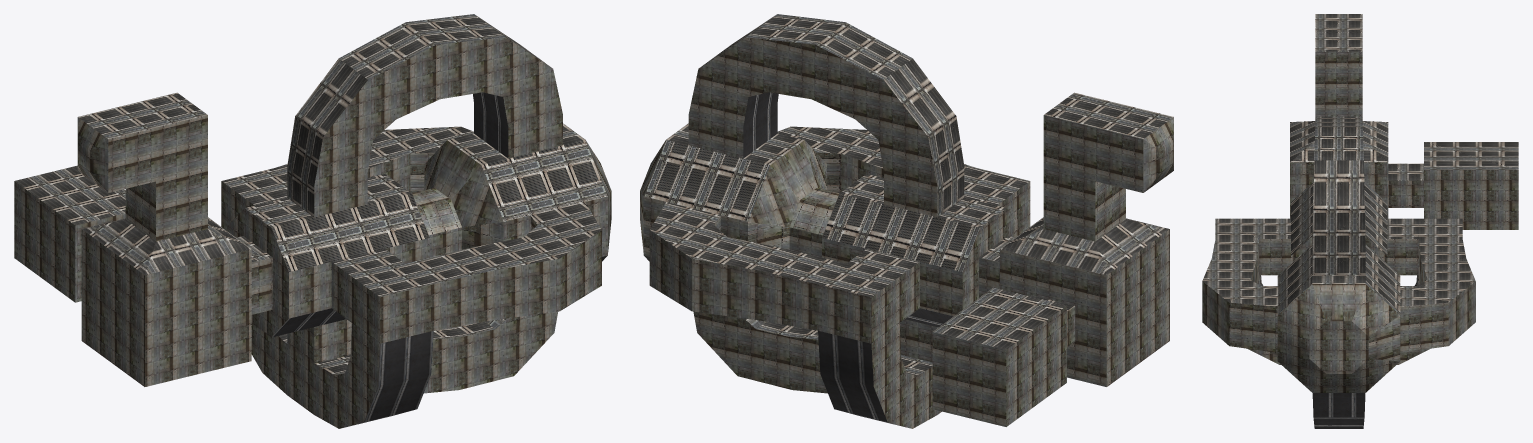
Rendered from AlphaLevelModel.fbx.
The picture shows the model from 3 angles, left to right: view 1: azimuth 30°, elevation 25°; view 2: azimuth 150°, elevation 25°; view 3: azimuth 270°, elevation 25°; orthographic projection. The views are drawn at different scales.
Visible parts, largest first — view 1: pCube1; view 2: pCube1; view 3: pCube1.
Part boxes in pixels (x1,y1,x2,y2): pCube1: (14, 14, 611, 428); pCube1: (640, 14, 1173, 428); pCube1: (1202, 14, 1518, 428).
Bounding box in the file's own units: 48.24 × 31.86 × 33.43.
